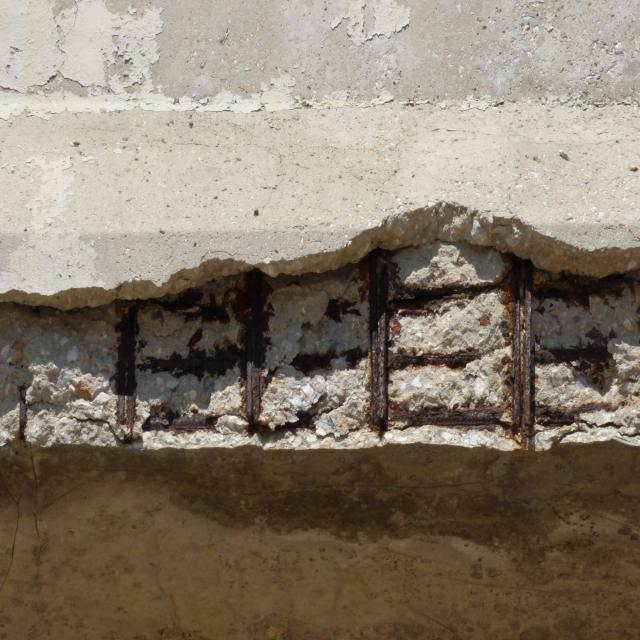corrosion: (0, 234, 640, 447)
